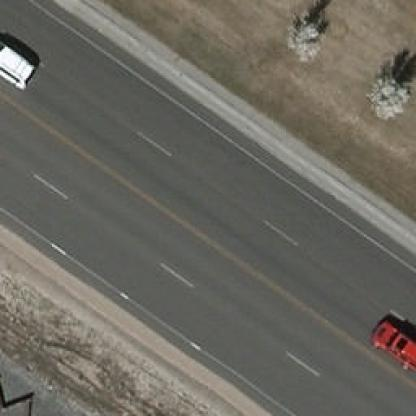car: (0, 29, 36, 88)
